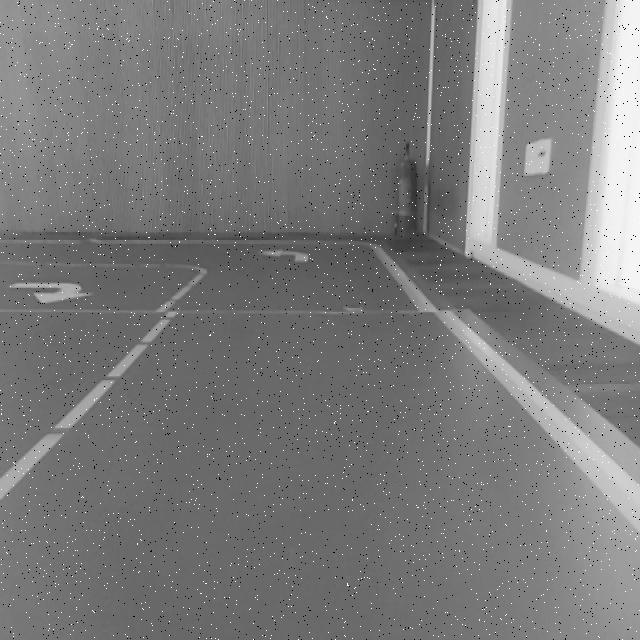left_lane: (2, 272, 208, 500)
right_lane: (378, 248, 640, 545)
